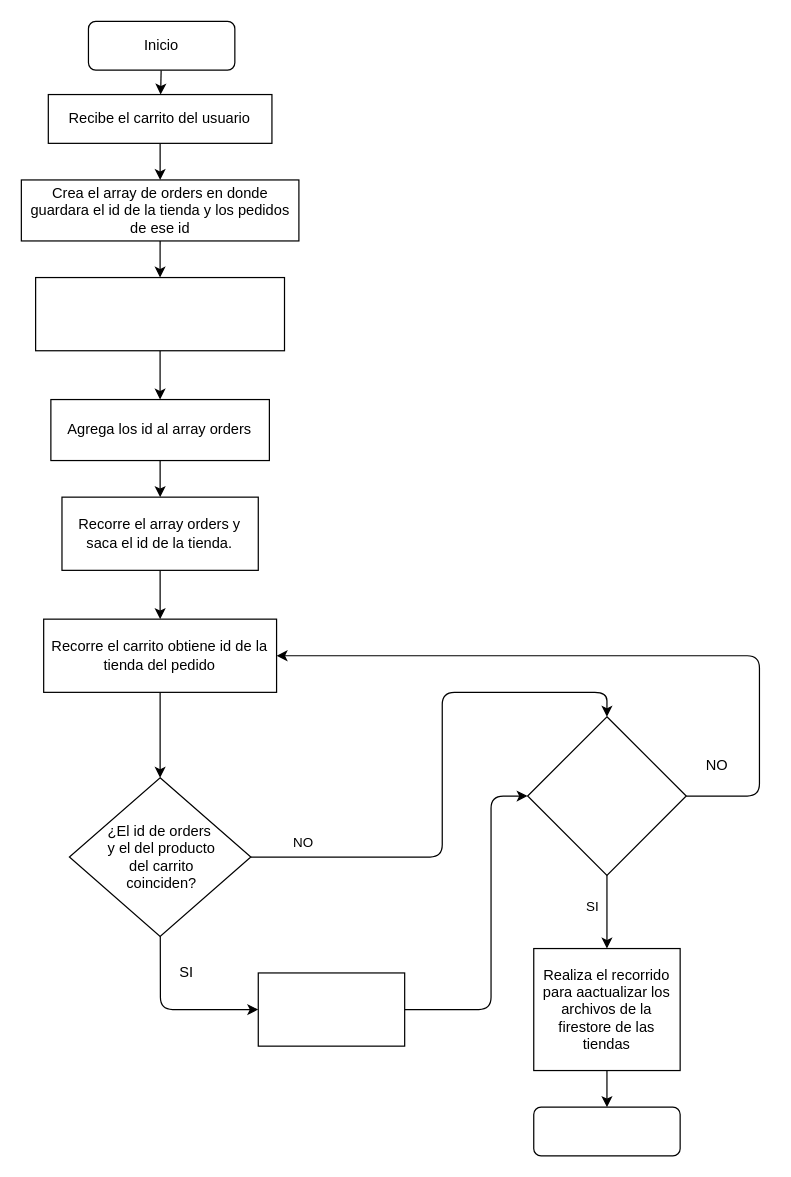
Some shapes in this 791 by 1177 pixel diagram are drawn without their labels. Each missing label, with the centre of its shape:
Agrega el producto al objeto dentro del array de orders: [331,1009]
Fin: [606,1131]
Recorre el carrito y obtiene el id de la tienda: [159,313]
¿Es el ultimo id del array de carrito?: [606,795]
